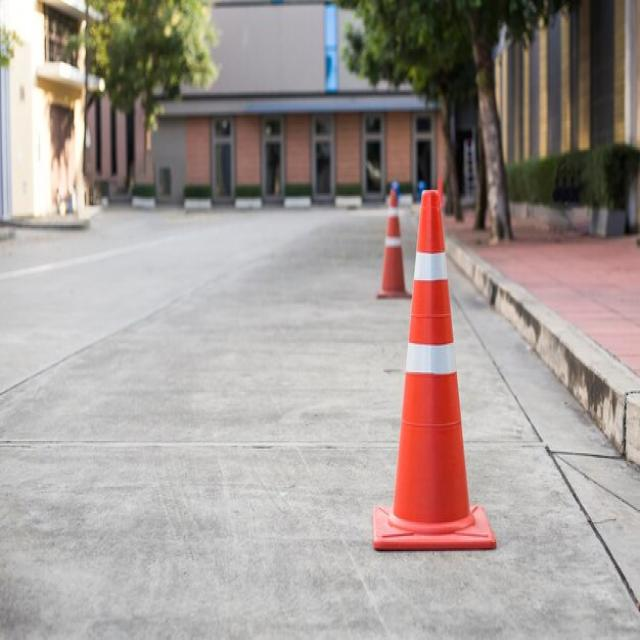Traffic Cone: (366, 161, 502, 576)
